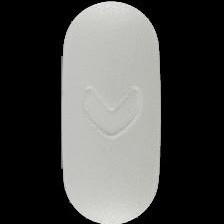11819-323: (0, 0, 224, 224)
